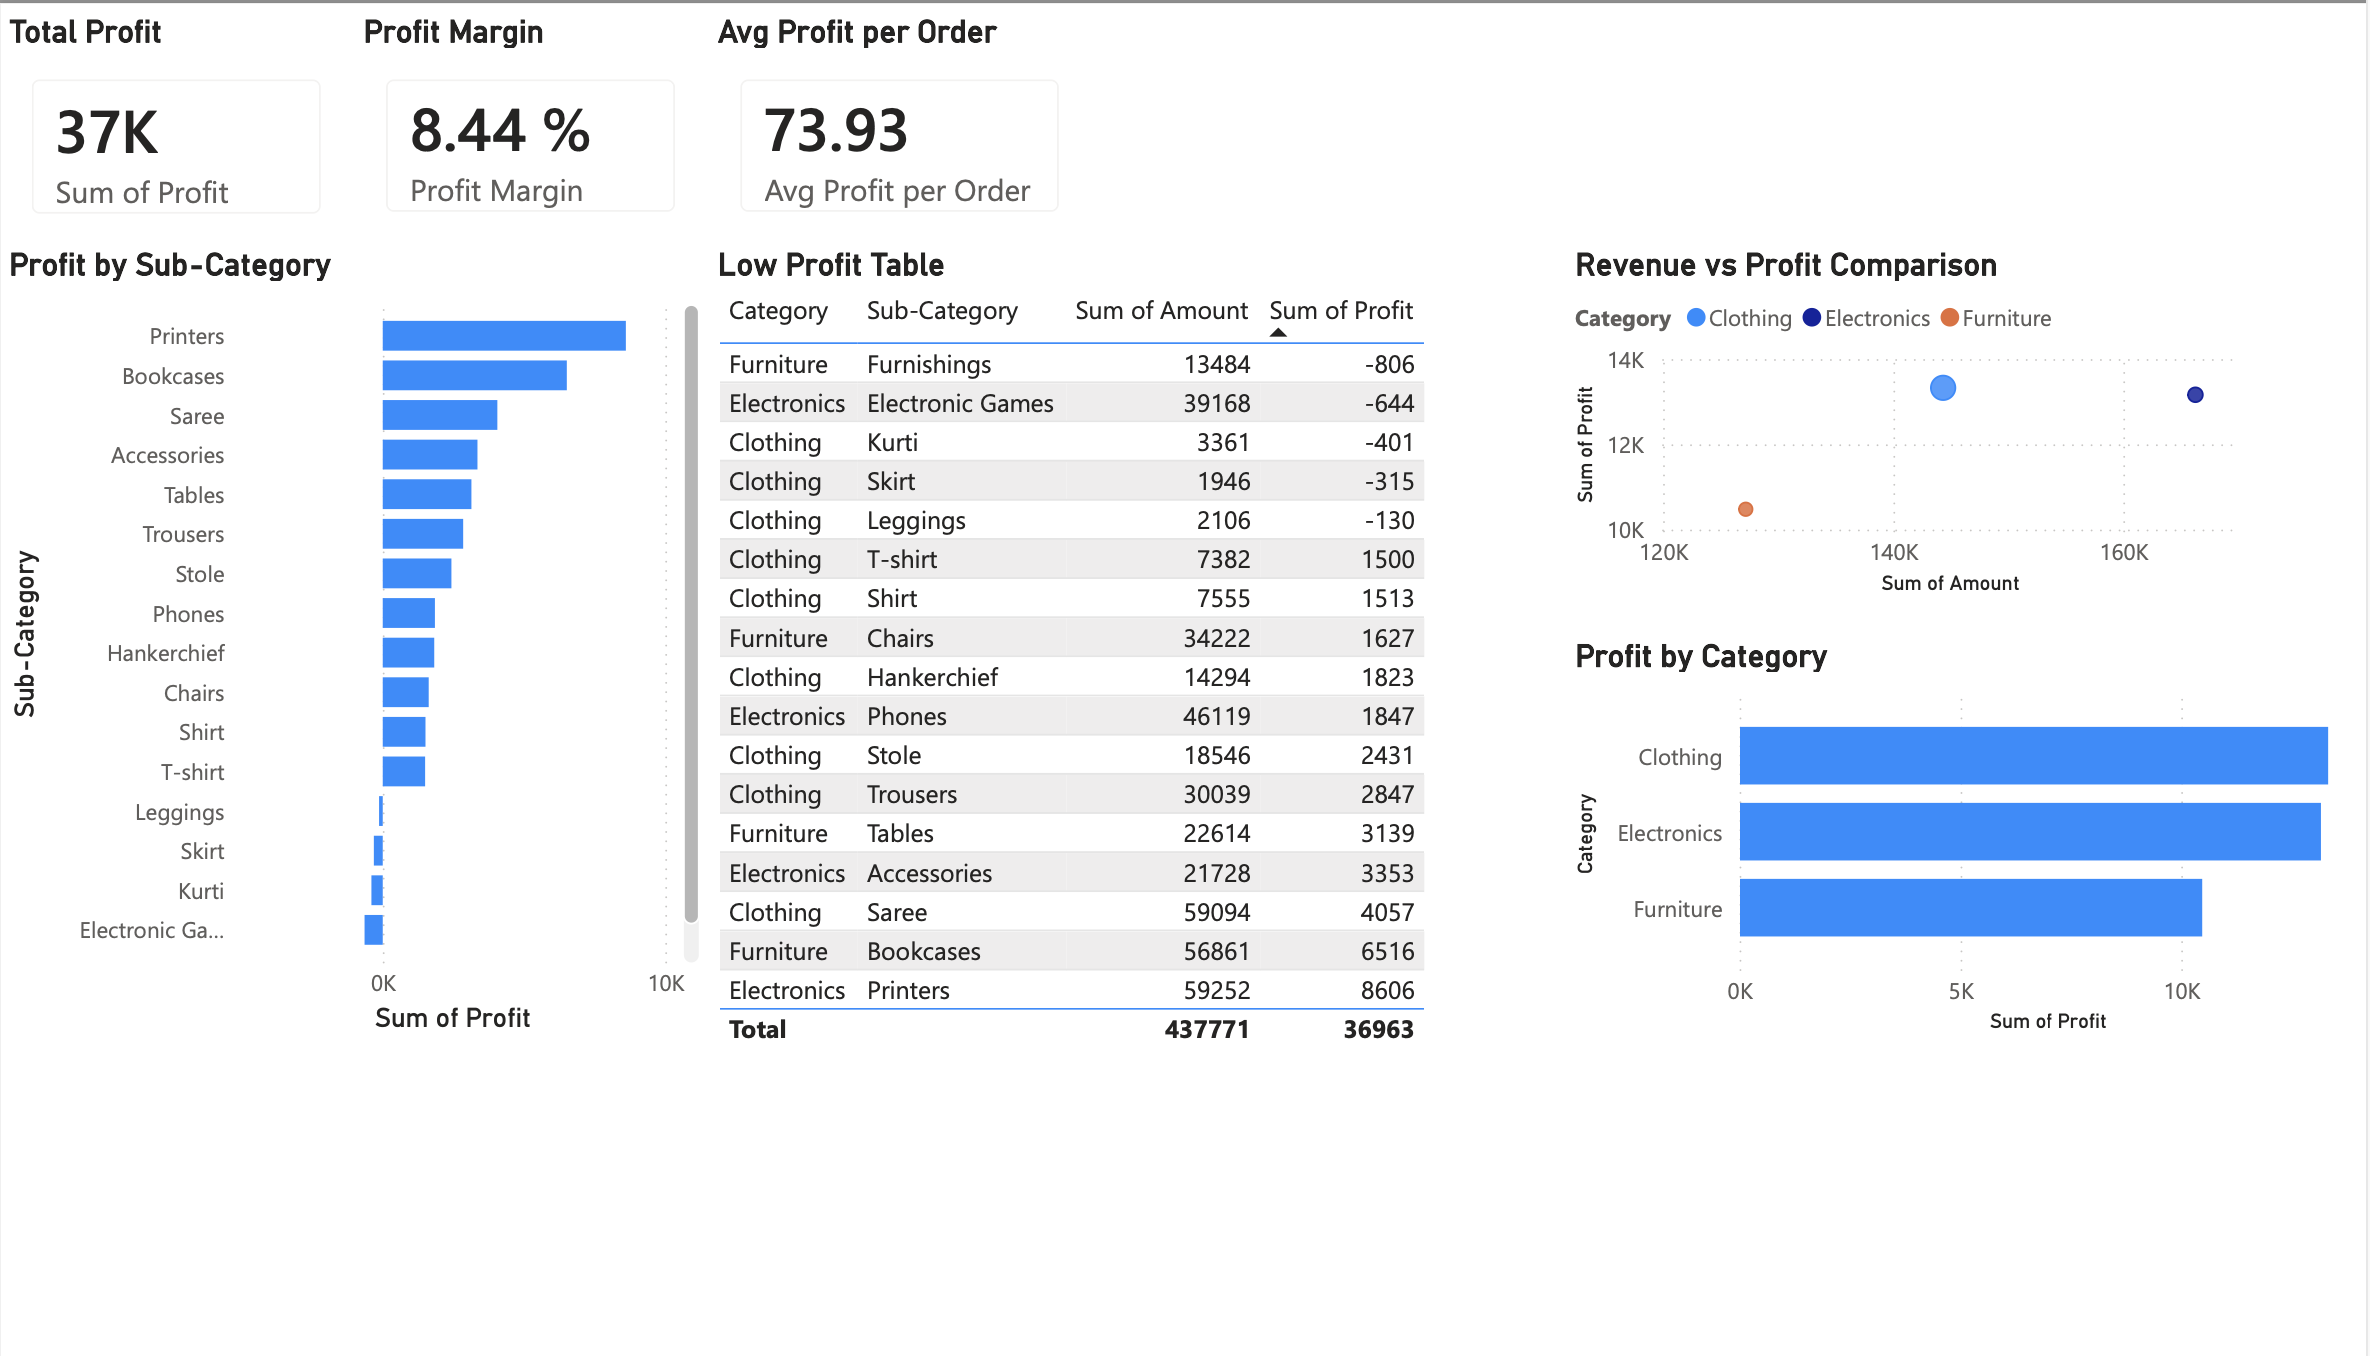

The dashboard page shown, as its layout file describes it:
{"tool":"powerbi","page":{"name":"Profit Analysis","canvas":[1280,720],"ordinal":1},"visuals":[{"type":"cardVisual","title":"Total Profit","fields":{"Data":["Sum(Details.Profit)"]},"box":[0,0,189.8,125],"z":0},{"type":"cardVisual","title":"Profit Margin","fields":{"Data":["Details.Profit Margin"]},"box":[189.9,0,189.9,125],"z":1000},{"type":"cardVisual","title":"Avg Profit per Order","fields":{"Data":["Details.Avg Profit per Order"]},"box":[379.7,0,205.7,125],"z":2000},{"type":"barChart","title":"Profit by Category","fields":{"Category":["Details.Category"],"Y":["Sum(Details.Profit)"]},"box":[840.1,335.4,439.9,216.8],"z":2001},{"type":"barChart","title":"Profit by Sub-Category","fields":{"Category":["Details.Sub-Category"],"Y":["Sum(Details.Profit)"]},"box":[0,125,379.7,427.2],"z":2002},{"type":"scatterChart","title":"Revenue vs Profit Comparison","fields":{"Series":["Details.Category"],"Size":["Sum(Details.Quantity)"],"X":["Sum(Details.Amount)"],"Y":["Sum(Details.Profit)"]},"box":[840.1,125,379.7,191.4],"z":2003},{"type":"tableEx","title":"Low Profit Table","fields":{"Values":["Details.Category","Details.Sub-Category","Sum(Details.Amount)","Sum(Details.Profit)"]},"box":[379.7,125,460.4,594.9],"z":2004}]}

Visuals, with their boxes in screenshot pixels (x1, y1, x2, y2), scaled from the page's 1280x720 canvas onto the 2370x1356 screenshot:
"Total Profit" cardVisual: <box>0,0,351,235</box>
"Profit Margin" cardVisual: <box>352,0,703,235</box>
"Avg Profit per Order" cardVisual: <box>703,0,1084,235</box>
"Profit by Category" barChart: <box>1555,632,2369,1040</box>
"Profit by Sub-Category" barChart: <box>0,235,703,1040</box>
"Revenue vs Profit Comparison" scatterChart: <box>1555,235,2259,596</box>
"Low Profit Table" tableEx: <box>703,235,1555,1355</box>
